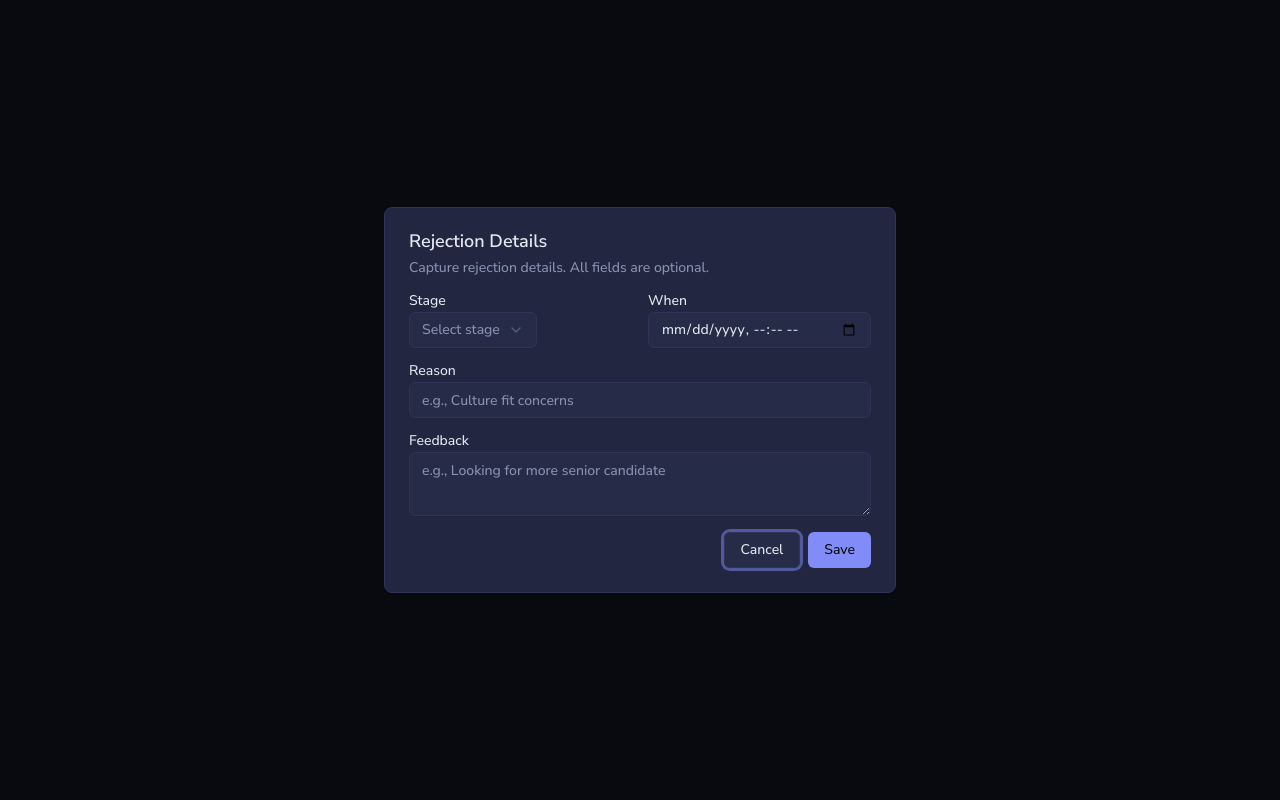
Test case: RejectionDetailsDialog › rendering › shows all interview stages in stage select
The width and height of the screenshot is (1280, 800).
Click the dropdown with test id "rejection-stage-select" at (473, 330), box 409,312 -> 537,348
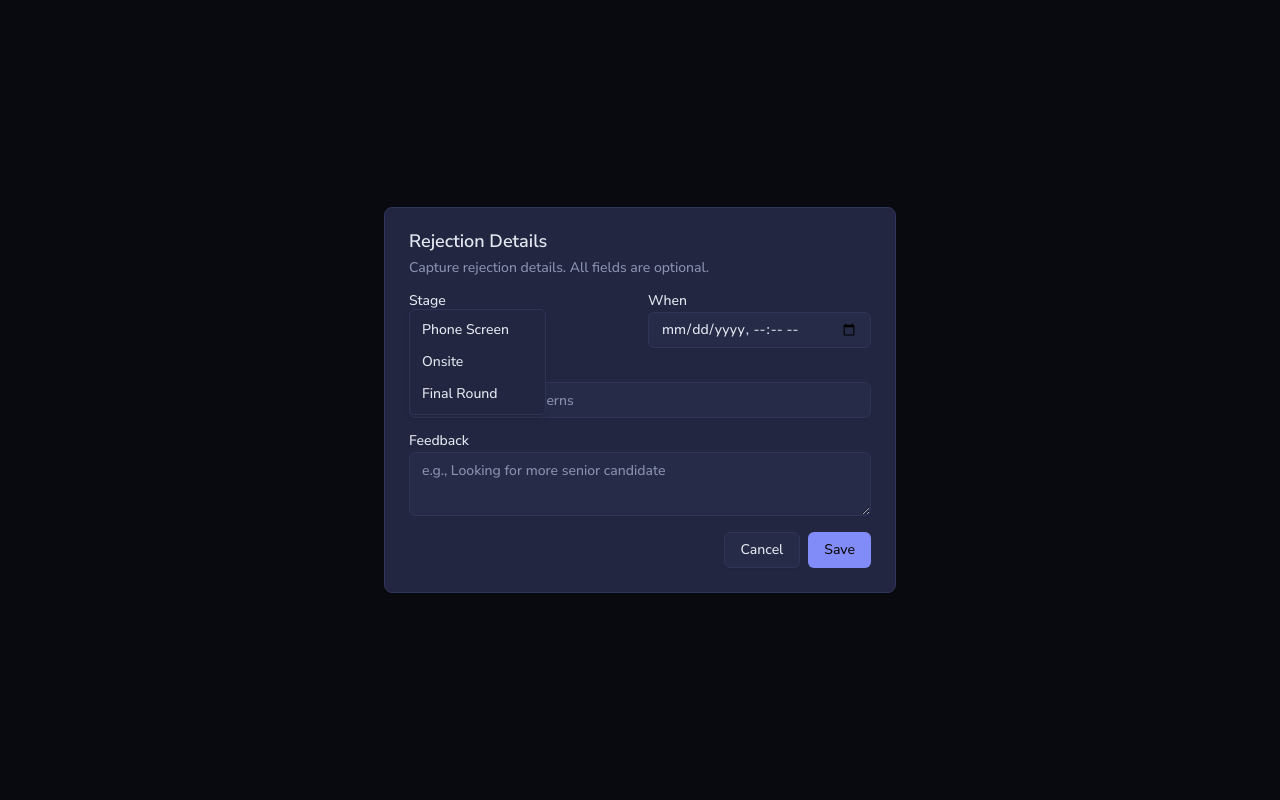
Now the option "Phone Screen" is shown, box 414,314 -> 541,346
Now the option "Onsite" is shown, box 422,352 -> 463,371
Now the option "Final Round" is shown, box 422,384 -> 498,403
